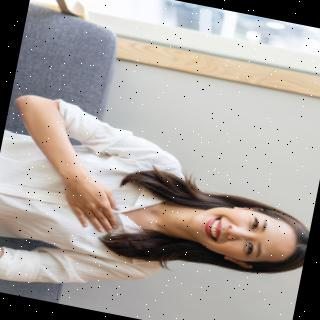Please: (64, 175, 129, 238)
